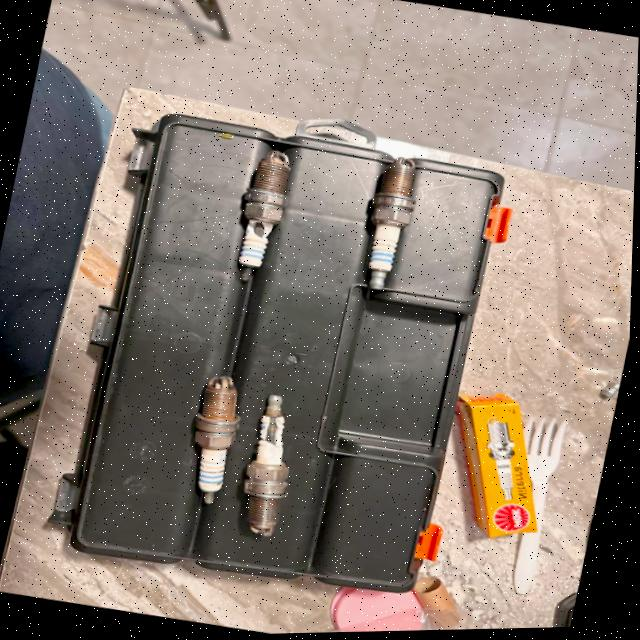damaged_spark-plug: (218, 133, 305, 304), (235, 385, 321, 546)
spark-plug: (358, 155, 432, 299), (182, 368, 255, 507)
